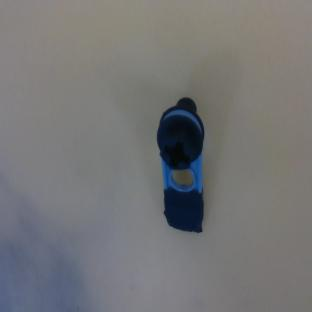part_1_good: (156, 97, 204, 231)
